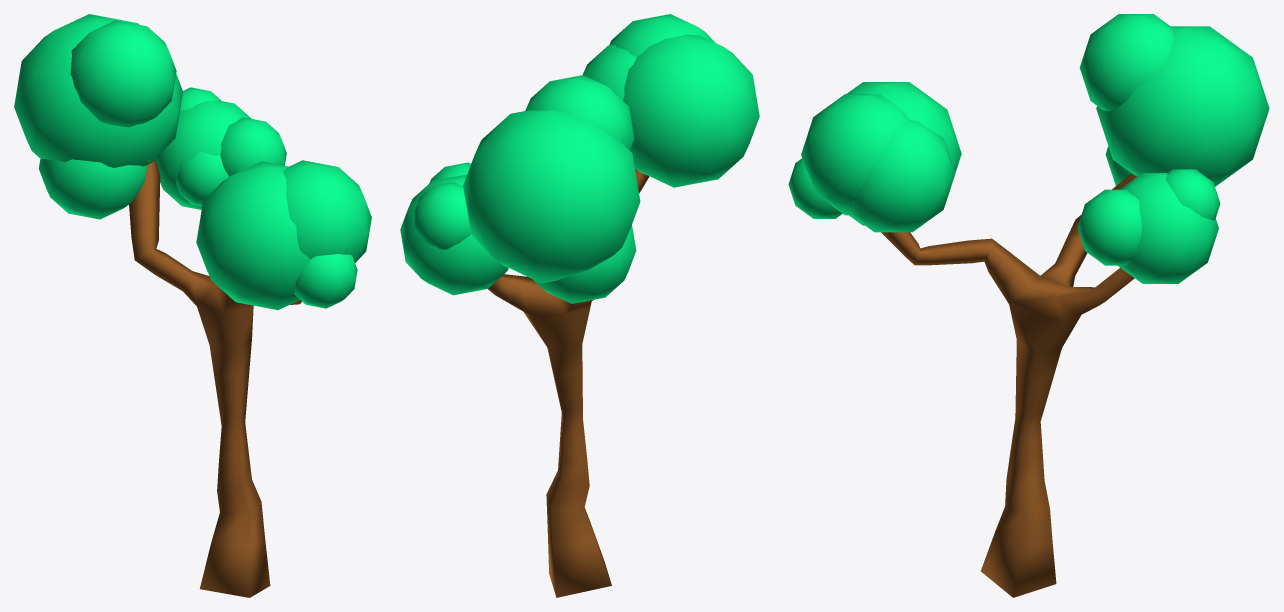
The model's file is tree_attempt_Scene.fbx.
3 renders of one model, left to right at view 1: azimuth 30°, elevation 25°; view 2: azimuth 150°, elevation 25°; view 3: azimuth 270°, elevation 25°, orthographic. The views are drawn at different scales.
Visible parts, largest first — view 1: Icosphere.006, Icosphere.009, Cube, Icosphere.001; view 2: Icosphere.006, Icosphere.009, Cube, Icosphere.001; view 3: Icosphere.006, Cube, Icosphere.009, Icosphere.001.
Boxes of the visible parts, bbox=[...] form: Icosphere.006: bbox=[14, 14, 182, 219]; Icosphere.009: bbox=[196, 160, 371, 309]; Cube: bbox=[129, 159, 301, 597]; Icosphere.001: bbox=[155, 87, 286, 209]; Icosphere.006: bbox=[463, 75, 640, 303]; Icosphere.009: bbox=[582, 14, 759, 187]; Cube: bbox=[402, 168, 649, 597]; Icosphere.001: bbox=[400, 162, 508, 295]; Icosphere.006: bbox=[1079, 14, 1269, 186]; Cube: bbox=[881, 173, 1191, 597]; Icosphere.009: bbox=[788, 82, 961, 232]; Icosphere.001: bbox=[1077, 169, 1220, 283].
Bounding box in the file's own units: 469 × 1092 × 884.
Materials: 2 (1 with a texture image).
